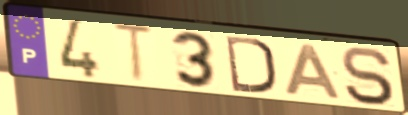3: (168, 29, 220, 90)
4: (56, 17, 104, 81)
A: (283, 42, 344, 101)
D: (223, 33, 279, 96)
S: (339, 45, 397, 108)
T: (110, 20, 157, 87)
